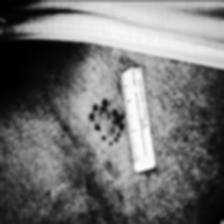Potentially Malignant Skin Tumors: (100, 108, 116, 134)
